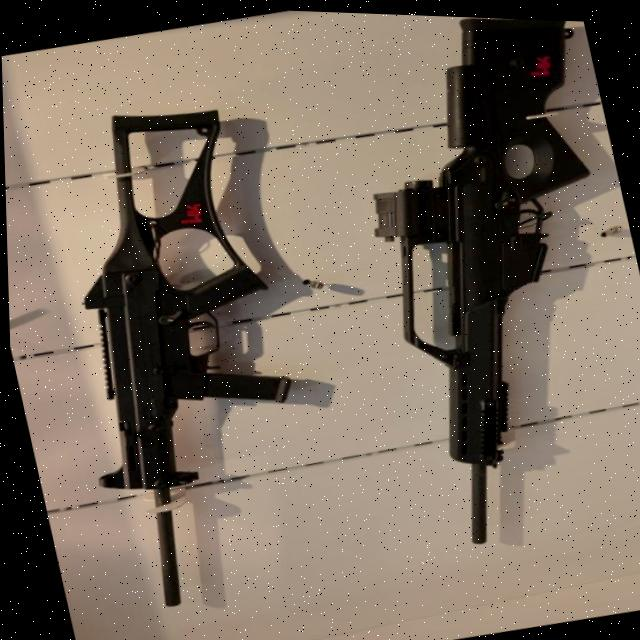firearm: (327, 10, 640, 554), (18, 89, 332, 619)
